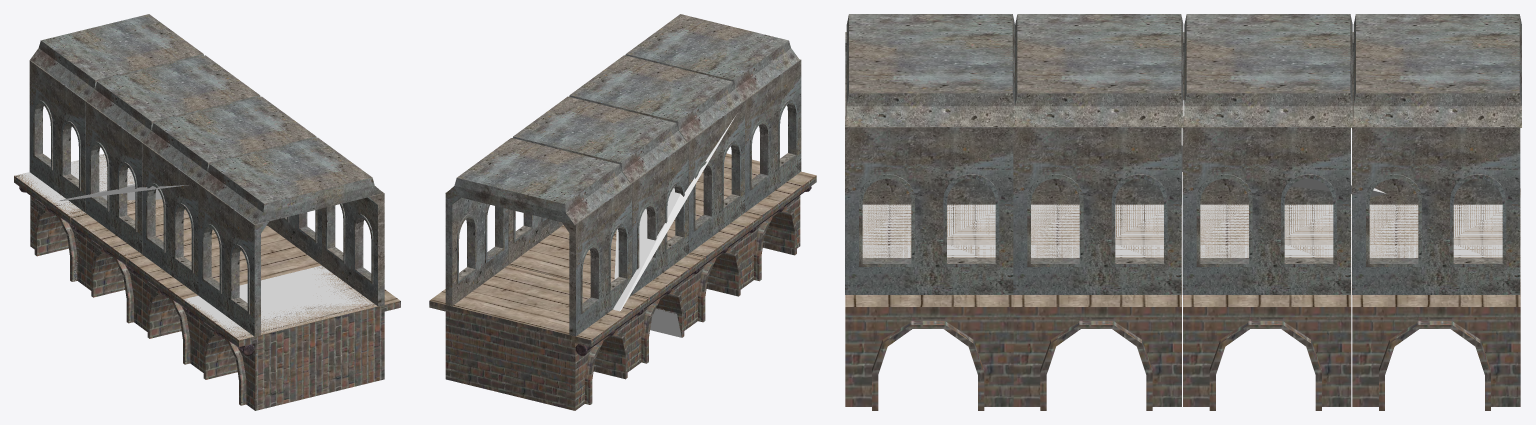
Rendered from bridge.glb.
3 views of the same model, side by side, from view 1: azimuth 30°, elevation 25°; view 2: azimuth 150°, elevation 25°; view 3: azimuth 270°, elevation 25° (orthographic). The views are drawn at different scales.
Parts seen in each view (by area): view 1: TetoCompleto, Wall, Base, COL, Pipe; view 2: Base, TetoCompleto, Wall, COL, Pipe; view 3: Wall, TetoCompleto, Base, COL.
Part boxes in pixels (x1,y1,x2,y2): TetoCompleto: (30, 14, 382, 224); Wall: (29, 60, 384, 336); Base: (14, 154, 400, 410); COL: (15, 154, 376, 339); Pipe: (19, 186, 254, 356); Base: (429, 153, 816, 410); TetoCompleto: (445, 14, 799, 225); Wall: (445, 59, 801, 336); COL: (613, 116, 798, 337); Pipe: (575, 186, 811, 356); Wall: (845, 32, 1520, 294); TetoCompleto: (846, 14, 1521, 127); Base: (845, 188, 1520, 410); COL: (862, 100, 1520, 286).
Size of the model in its own units: 5 by 6.01 by 12.07.
Materials: 4 (4 with a texture image).
